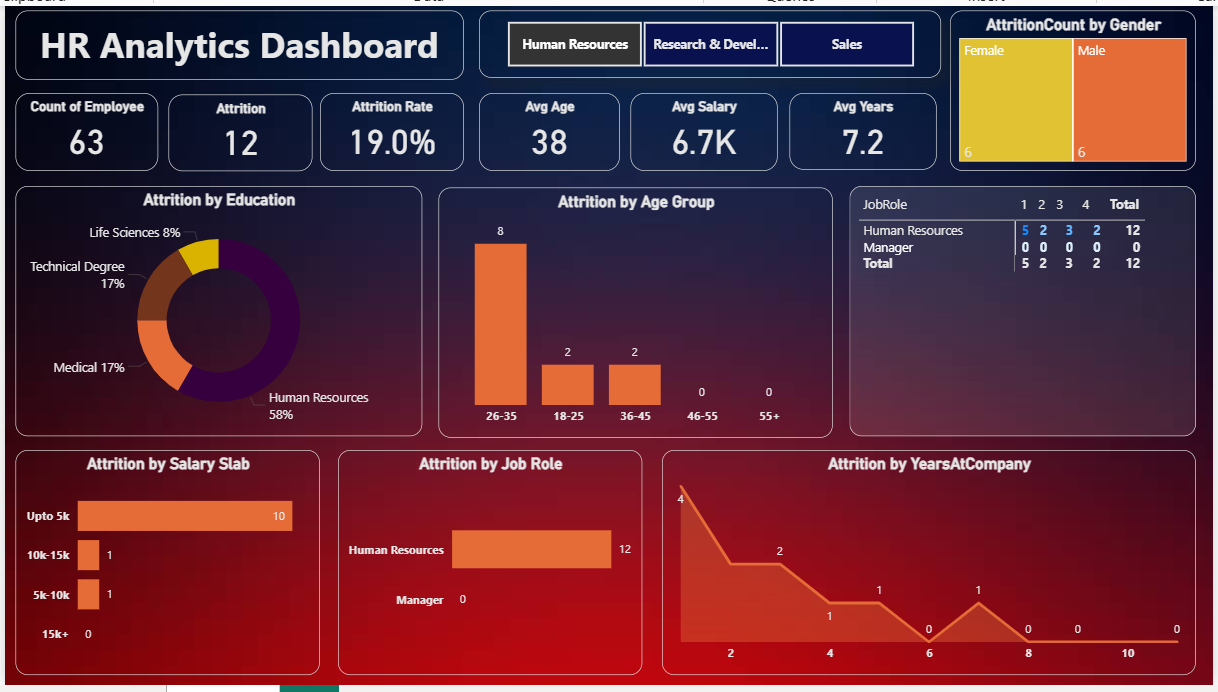

What the dashboard file says about the page in this screenshot:
{"tool":"powerbi","page":{"name":"Page 1","canvas":[1280,720],"ordinal":0},"visuals":[{"type":"card","title":"Count of Employee","fields":{"Values":["CountNonNull(HR_Analytics.EmpID)"]},"box":[11.1,92.3,151.1,82.7],"z":0},{"type":"card","title":"Attrition","fields":{"Values":["Sum(HR_Analytics.AttritionCount)"]},"box":[173.4,93.8,152.7,81.1],"z":1000},{"type":"card","title":"Attrition Rate","fields":{"Values":["HR_Analytics.AttritionRate"]},"box":[334,92.3,152.7,82.7],"z":2000},{"type":"card","title":"Avg Age","fields":{"Values":["Avg(HR_Analytics.Age)"]},"box":[502.6,92.3,149.5,82.7],"z":3000},{"type":"card","title":"Avg Salary","fields":{"Values":["Avg(HR_Analytics.MonthlyIncome)"]},"box":[663.3,92.3,155.9,82.7],"z":4000},{"type":"card","title":"Avg Years","fields":{"Values":["Avg(HR_Analytics.YearsAtCompany)"]},"box":[831.9,92.3,155.9,81.1],"z":5000},{"type":"donutChart","title":"Attrition by Education","fields":{"Category":["HR_Analytics.EducationField"],"Y":["Sum(HR_Analytics.AttritionCount)"]},"box":[11.1,190.9,431.1,265.6],"z":6000},{"type":"columnChart","title":"Attrition by Age Group","fields":{"Category":["HR_Analytics.AgeGroup"],"Y":["Sum(HR_Analytics.AttritionCount)"]},"box":[459.7,192.5,418.3,265.6],"z":7000},{"type":"pivotTable","fields":{"Rows":["HR_Analytics.JobRole"],"Columns":["HR_Analytics.JobSatisfaction"],"Values":["Sum(HR_Analytics.AttritionCount)"]},"box":[895.5,190.9,367.4,265.6],"z":8000},{"type":"barChart","title":"Attrition by Salary Slab","fields":{"Category":["HR_Analytics.SalarySlab"],"Y":["Sum(HR_Analytics.AttritionCount)"]},"box":[11.1,470.8,322.9,238.6],"z":9000},{"type":"barChart","title":"Attrition by Job Role","fields":{"Y":["Sum(HR_Analytics.AttritionCount)"],"Category":["HR_Analytics.JobRole"]},"box":[353.1,470.8,322.9,238.6],"z":10000},{"type":"areaChart","title":"Attrition by YearsAtCompany","fields":{"Y":["Sum(HR_Analytics.AttritionCount)"],"Category":["HR_Analytics.YearsAtCompany"]},"box":[696.7,470.8,566.3,238.6],"z":11000},{"type":"treemap","title":" AttritionCount by Gender","fields":{"Group":["HR_Analytics.Gender"],"Values":["Sum(HR_Analytics.AttritionCount)"]},"box":[1002.1,4.8,260.9,170.2],"z":12000},{"type":"slicer","title":"Department","fields":{"Values":["HR_Analytics.Department"]},"box":[502.6,4.8,489.9,71.6],"z":13000},{"type":"textbox","box":[11.1,4.8,475.6,73.2],"z":14000}]}

Visuals, with their boxes in screenshot pixels (x1, y1, x2, y2), scaled from the page's 1280x720 canvas onto the 1218x692 screenshot:
"Count of Employee" card: BBox(11, 89, 154, 168)
"Attrition" card: BBox(165, 90, 310, 168)
"Attrition Rate" card: BBox(318, 89, 463, 168)
"Avg Age" card: BBox(478, 89, 621, 168)
"Avg Salary" card: BBox(631, 89, 780, 168)
"Avg Years" card: BBox(792, 89, 940, 167)
"Attrition by Education" donutChart: BBox(11, 183, 421, 439)
"Attrition by Age Group" columnChart: BBox(437, 185, 835, 440)
pivotTable - HR_Analytics.JobRole x HR_Analytics.JobSatisfaction: BBox(852, 183, 1202, 439)
"Attrition by Salary Slab" barChart: BBox(11, 452, 318, 682)
"Attrition by Job Role" barChart: BBox(336, 452, 643, 682)
"Attrition by YearsAtCompany" areaChart: BBox(663, 452, 1202, 682)
" AttritionCount by Gender" treemap: BBox(954, 5, 1202, 168)
"Department" slicer: BBox(478, 5, 944, 73)
textbox: BBox(11, 5, 463, 75)
